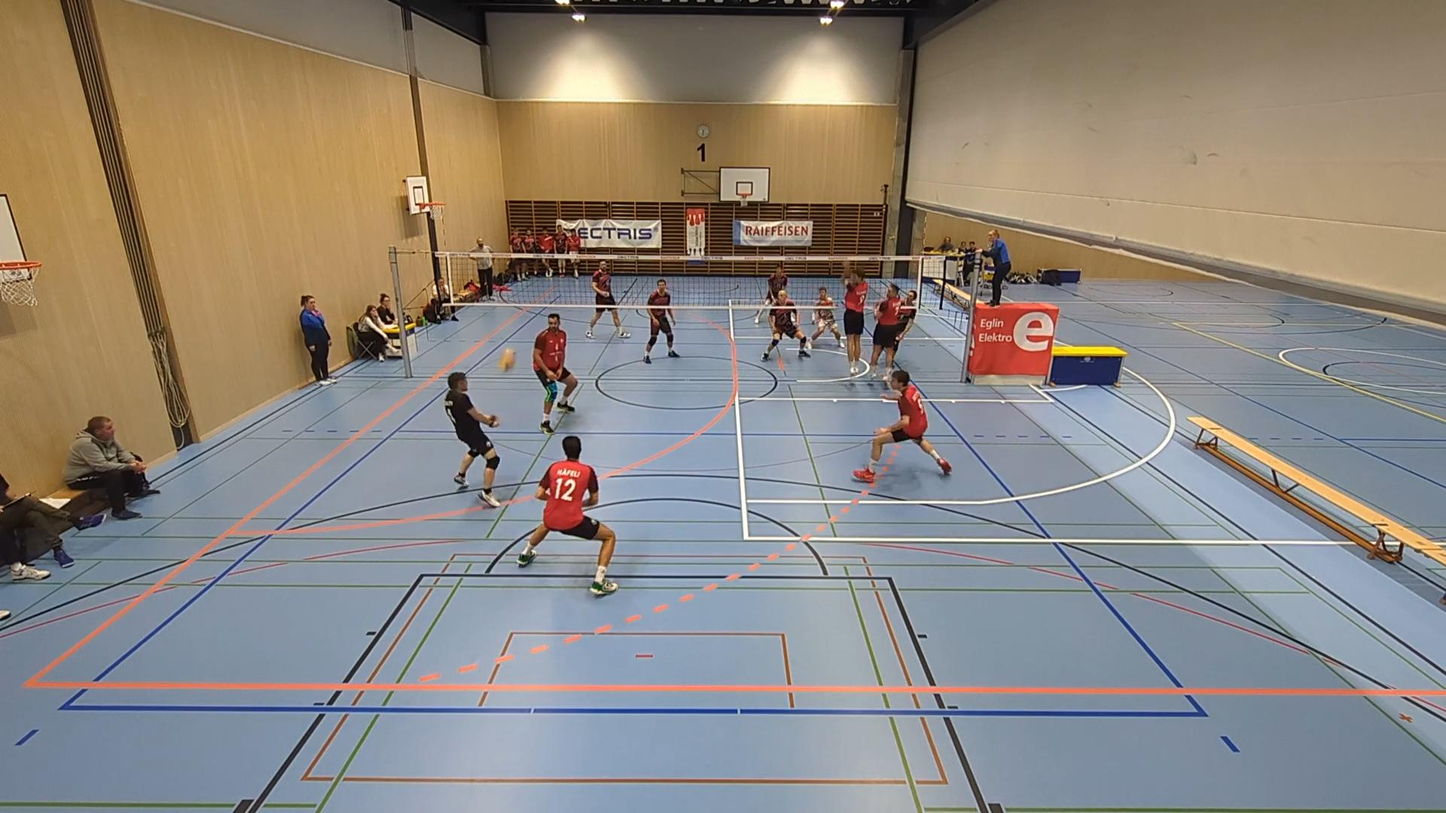Dig: (442, 371, 507, 514)
Player: (517, 435, 618, 595), (853, 370, 951, 483), (532, 313, 577, 434), (586, 260, 630, 339), (762, 289, 809, 359), (870, 284, 902, 379), (642, 279, 678, 363), (844, 268, 868, 374), (810, 287, 844, 347), (755, 263, 788, 323), (893, 290, 917, 358)
ball: (499, 348, 517, 370)
